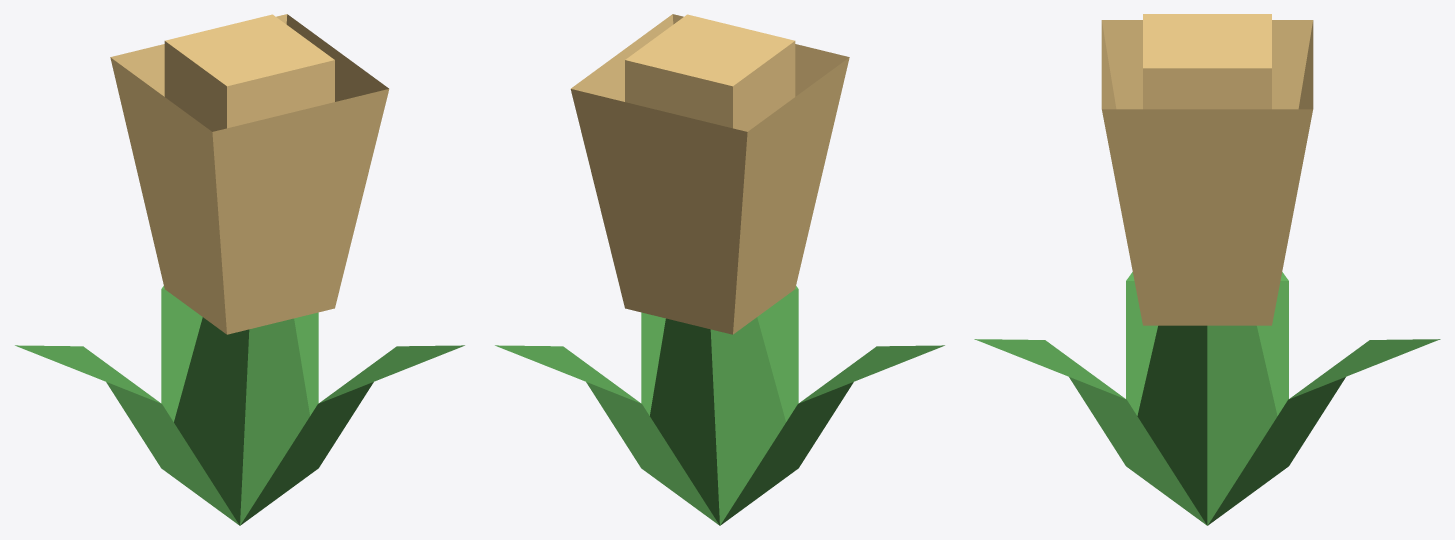
The model's file is flower_yellowA.glb.
3 views of the same model, side by side, from view 1: azimuth 30°, elevation 25°; view 2: azimuth 150°, elevation 25°; view 3: azimuth 270°, elevation 25° (orthographic). The views are drawn at different scales.
Parts seen in each view (by area): view 1: flower_yellowA; view 2: flower_yellowA; view 3: flower_yellowA.
Boxes of the visible parts, x1=… form: flower_yellowA: x1=15, y1=14, x2=464, y2=525; flower_yellowA: x1=495, y1=14, x2=944, y2=525; flower_yellowA: x1=974, y1=14, x2=1440, y2=525.
Size of the model in its own units: 0.1591 by 0.1925 by 0.1811.
